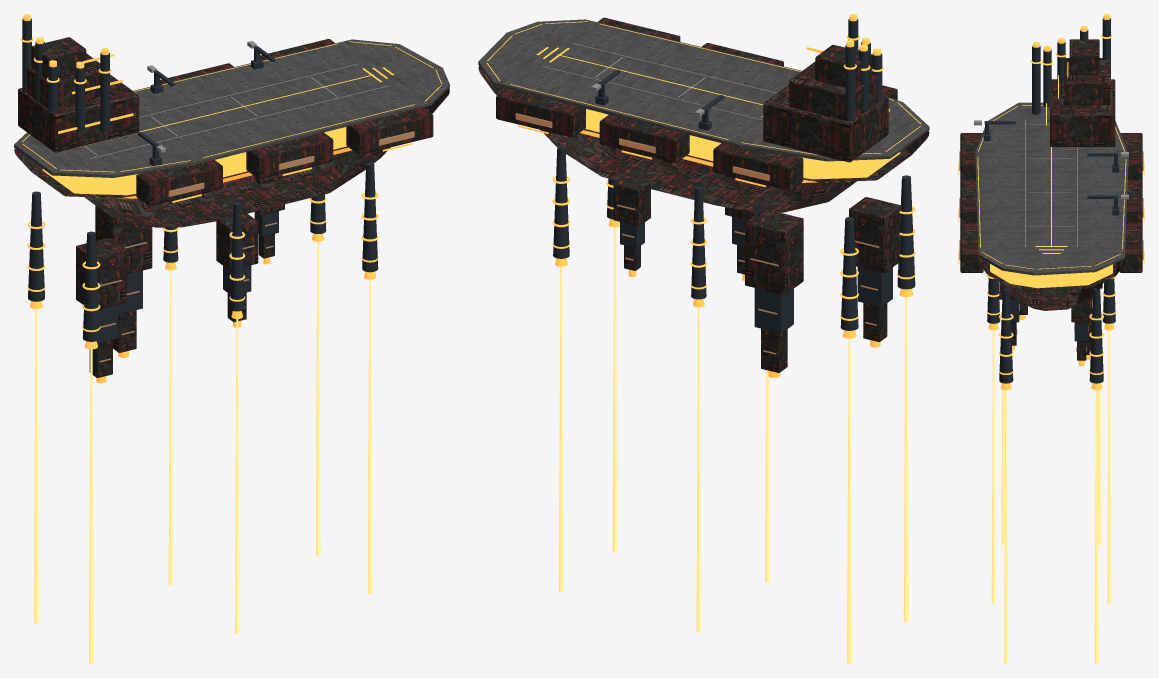
The model's file is inferno-ozone-base-v3.glb.
3 renders of one model, left to right at view 1: azimuth 30°, elevation 25°; view 2: azimuth 150°, elevation 25°; view 3: azimuth 270°, elevation 25°, orthographic. The views are drawn at different scales.
Parts seen in each view (by area): view 1: inferno_ozone_base__lod0__Inferno hull plating, inferno_ozone_base__lod0__Inferno deck surface, inferno_ozone_base__lod0__Inferno structural frame, inferno_ozone_base__lod0__Inferno lift beam, inferno_ozone_base__lod0__Inferno emissive guidance, inferno_ozone_base__lod0__Inferno recessed glazing, inferno_ozone_base__lod0__Inferno light armor; view 2: inferno_ozone_base__lod0__Inferno hull plating, inferno_ozone_base__lod0__Inferno deck surface, inferno_ozone_base__lod0__Inferno structural frame, inferno_ozone_base__lod0__Inferno lift beam, inferno_ozone_base__lod0__Inferno emissive guidance, inferno_ozone_base__lod0__Inferno recessed glazing, inferno_ozone_base__lod0__Inferno light armor; view 3: inferno_ozone_base__lod0__Inferno deck surface, inferno_ozone_base__lod0__Inferno hull plating, inferno_ozone_base__lod0__Inferno structural frame, inferno_ozone_base__lod0__Inferno lift beam, inferno_ozone_base__lod0__Inferno emissive guidance, inferno_ozone_base__lod0__Inferno light armor.
Part boxes in pixels (box(x1,y1,x2,y2)): inferno_ozone_base__lod0__Inferno hull plating: box(14, 37, 449, 377); inferno_ozone_base__lod0__Inferno deck surface: box(14, 39, 449, 177); inferno_ozone_base__lod0__Inferno structural frame: box(22, 18, 378, 343); inferno_ozone_base__lod0__Inferno lift beam: box(34, 241, 372, 663); inferno_ozone_base__lod0__Inferno emissive guidance: box(20, 14, 441, 383); inferno_ozone_base__lod0__Inferno recessed glazing: box(98, 131, 414, 362); inferno_ozone_base__lod0__Inferno light armor: box(84, 41, 388, 159); inferno_ozone_base__lod0__Inferno hull plating: box(478, 17, 929, 372); inferno_ozone_base__lod0__Inferno deck surface: box(478, 19, 929, 161); inferno_ozone_base__lod0__Inferno structural frame: box(553, 19, 915, 333); inferno_ozone_base__lod0__Inferno lift beam: box(559, 227, 908, 663); inferno_ozone_base__lod0__Inferno emissive guidance: box(486, 14, 921, 377); inferno_ozone_base__lod0__Inferno recessed glazing: box(515, 113, 879, 354); inferno_ozone_base__lod0__Inferno light armor: box(542, 43, 776, 120); inferno_ozone_base__lod0__Inferno deck surface: box(975, 102, 1128, 275); inferno_ozone_base__lod0__Inferno hull plating: box(960, 39, 1142, 360); inferno_ozone_base__lod0__Inferno structural frame: box(983, 18, 1119, 383); inferno_ozone_base__lod0__Inferno lift beam: box(991, 330, 1111, 663); inferno_ozone_base__lod0__Inferno emissive guidance: box(958, 14, 1144, 390); inferno_ozone_base__lod0__Inferno light armor: box(974, 120, 1128, 247).
Size of the model in its own units: 800 by 1156 by 370.
Materials: 7 (2 with a texture image).
